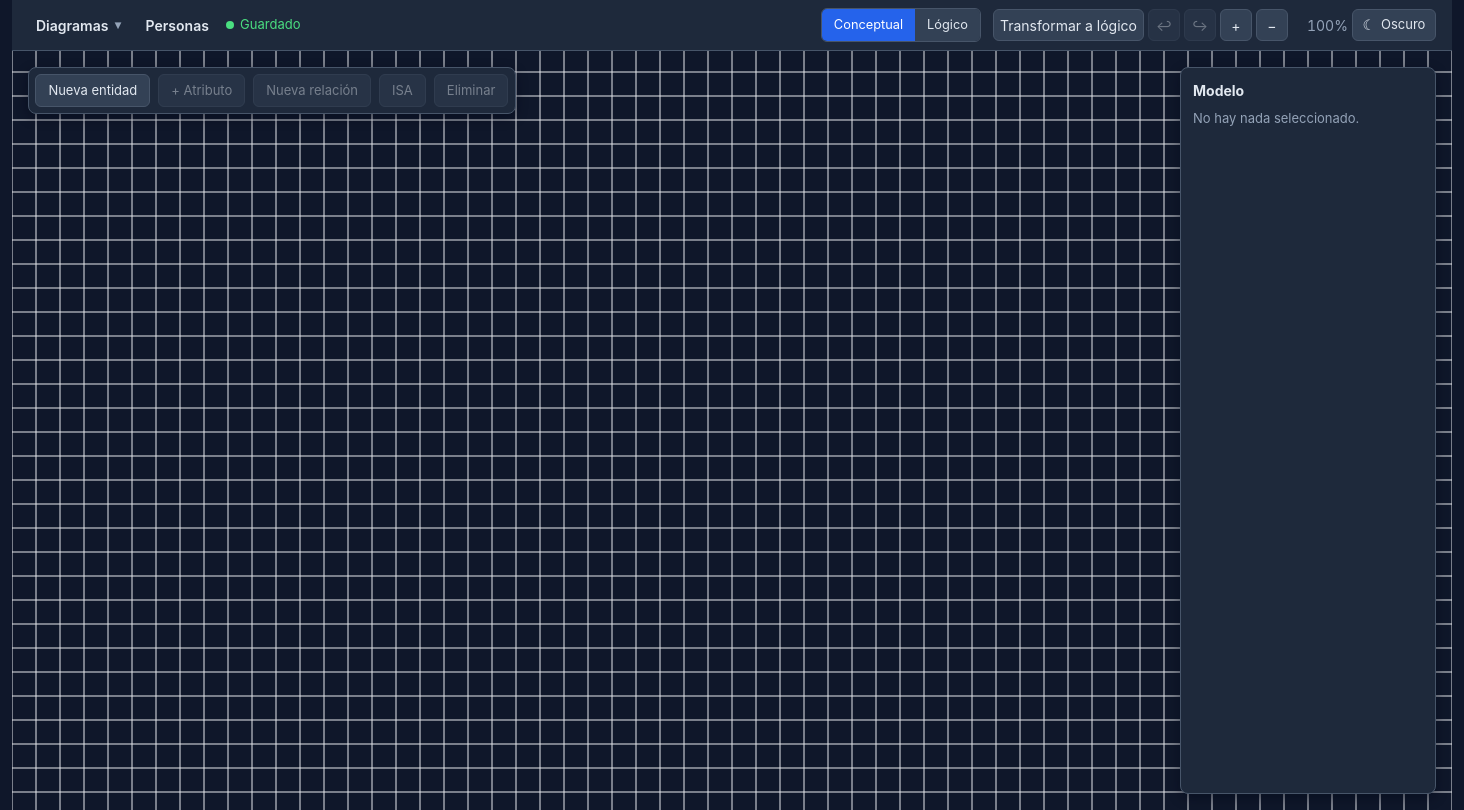
EditorPage › añade atributos a la relación seleccionada (T7-03)
Click the button "Nueva entidad": (93, 91) [35, 74, 150, 107]
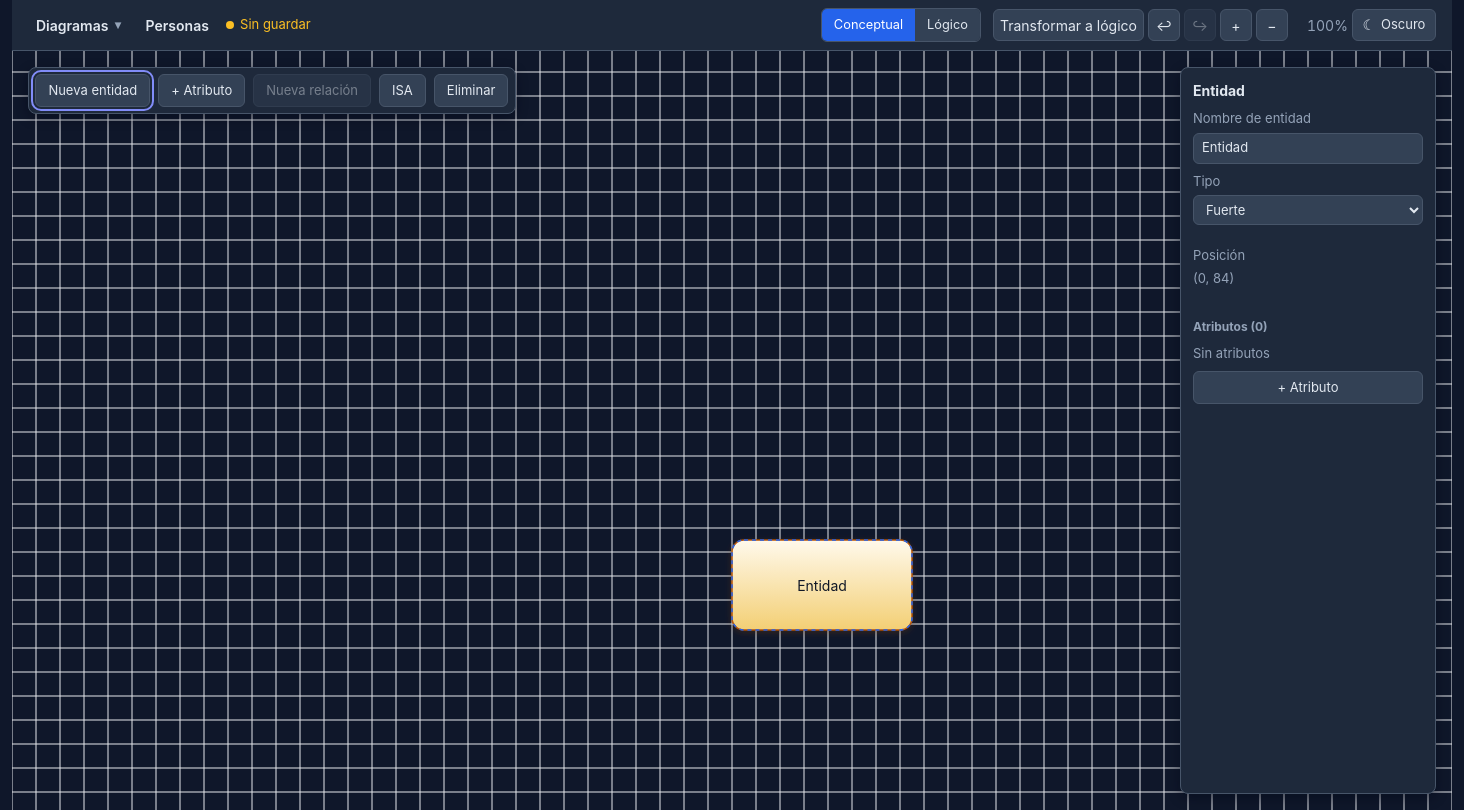
Click the button "Nueva entidad": (93, 91) [35, 74, 150, 107]
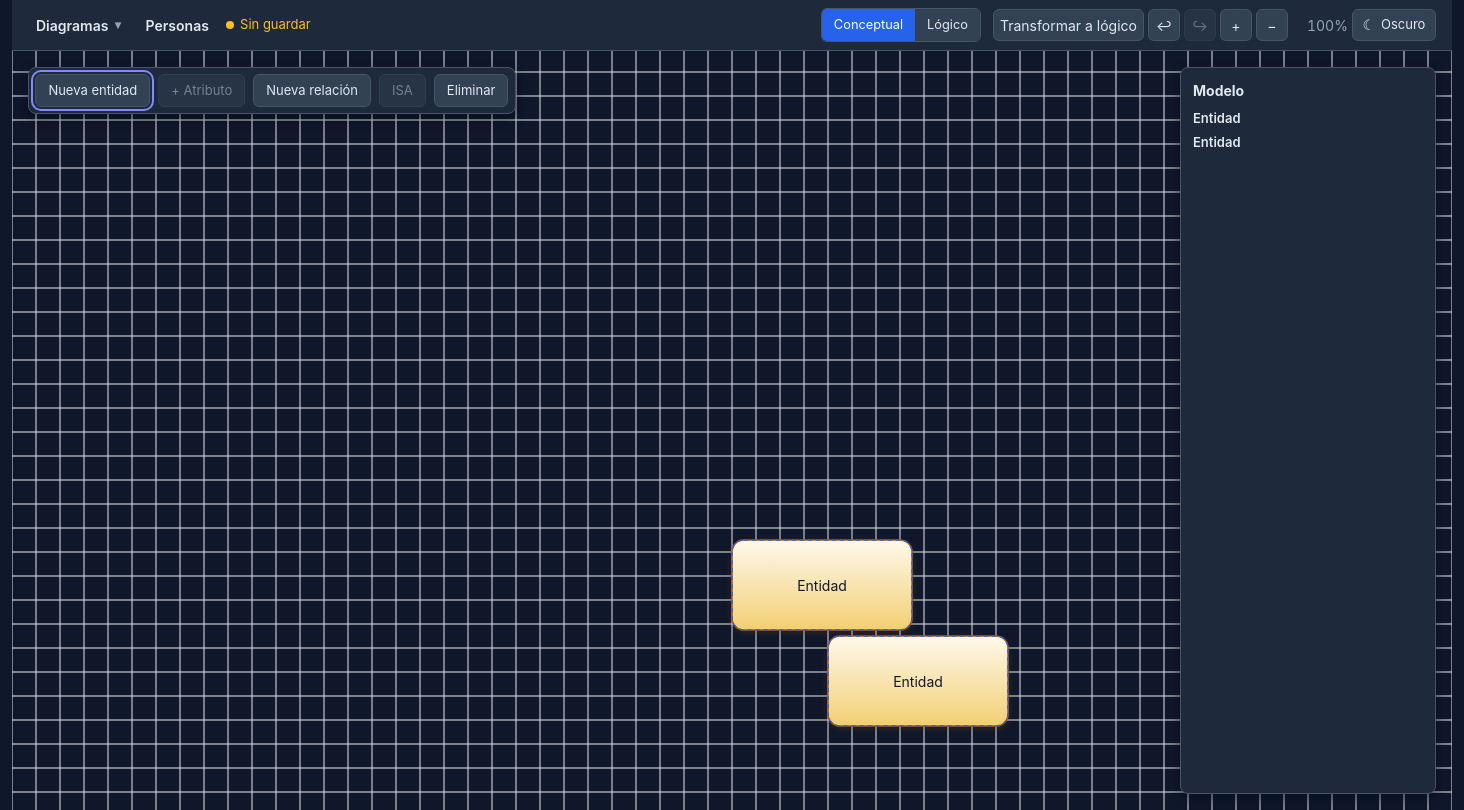
Click the button "Nueva relación": (312, 91) [253, 74, 371, 107]
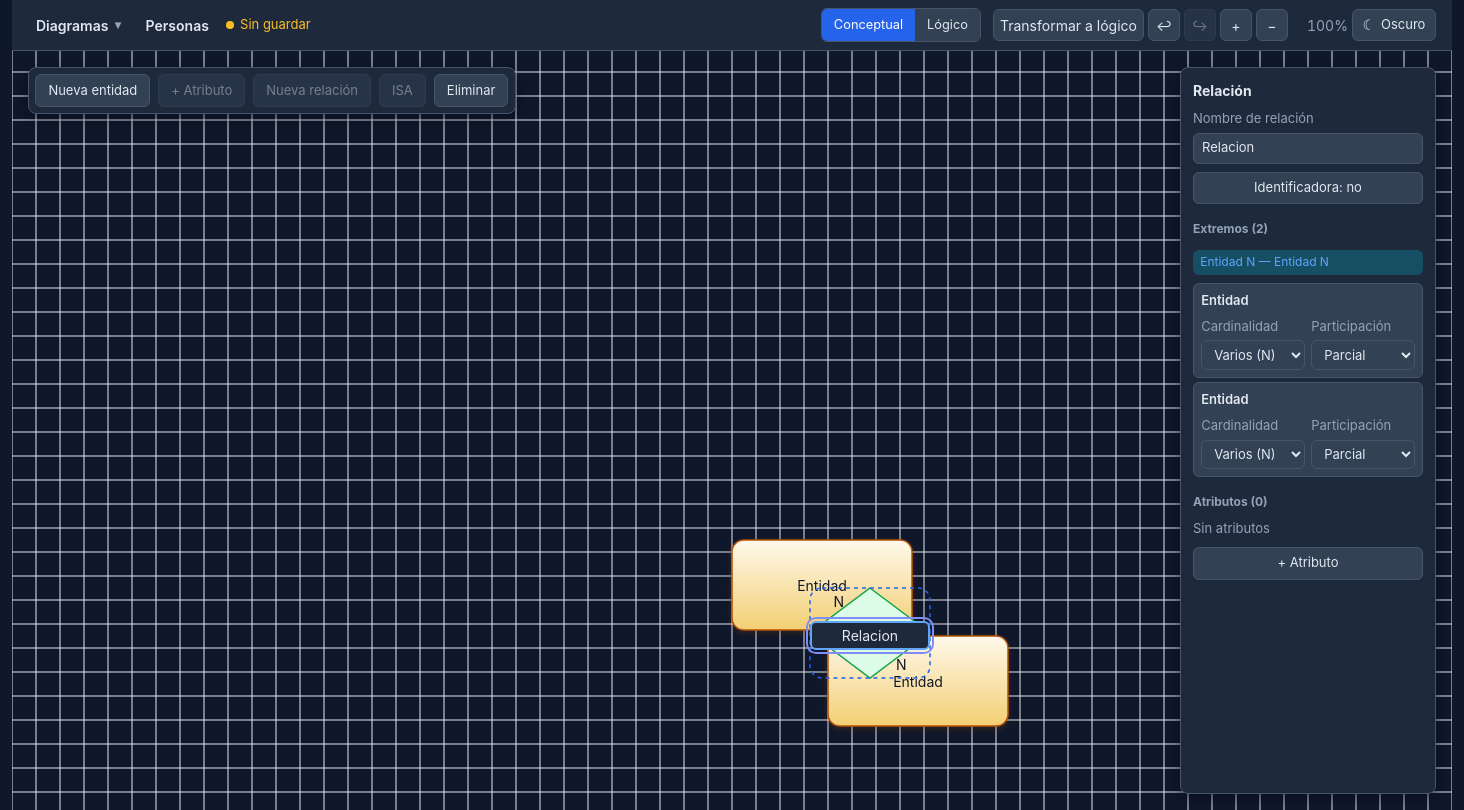
Click the button named "Añadir atributo a relación": (1308, 563) [1193, 547, 1423, 580]
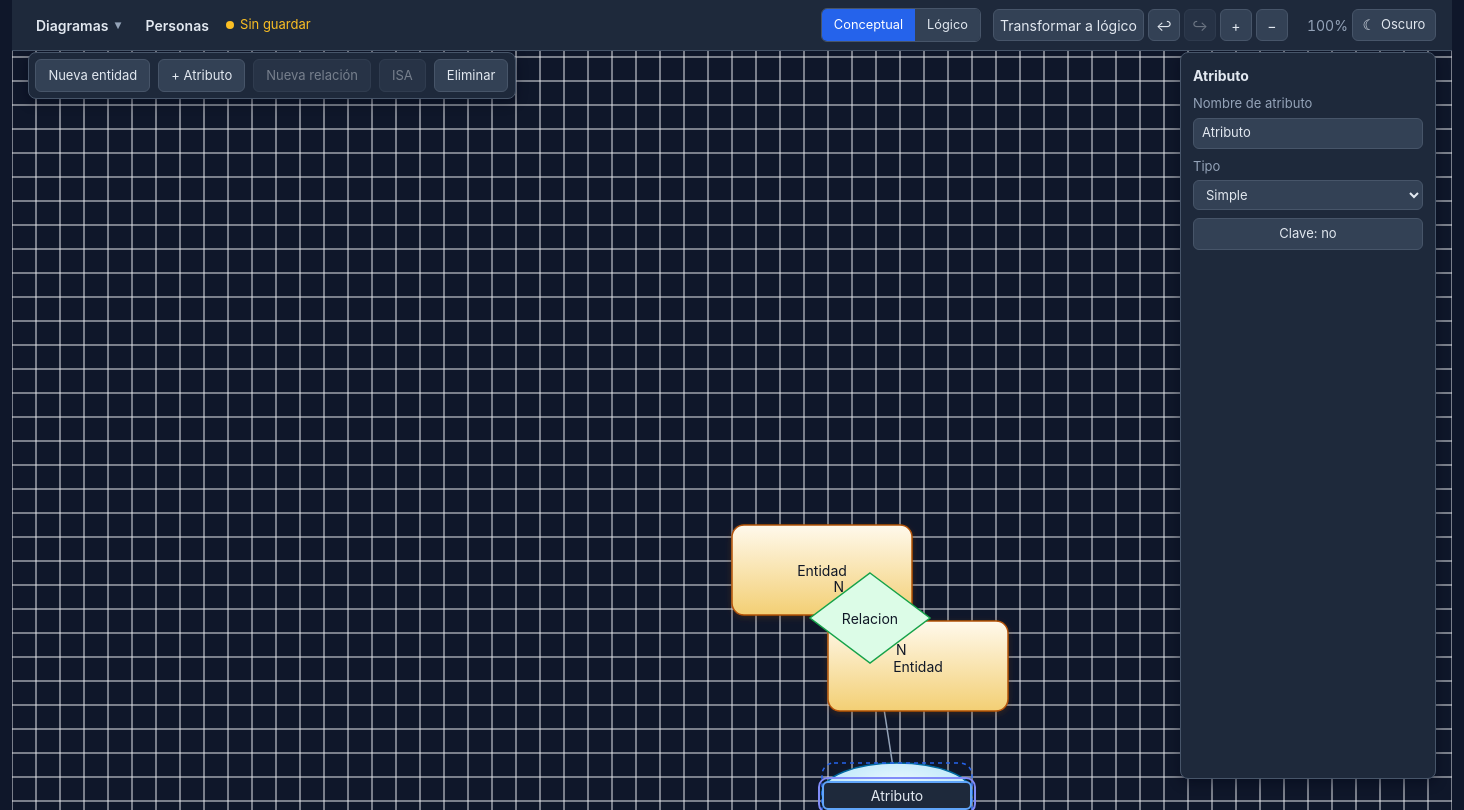
Press Enter
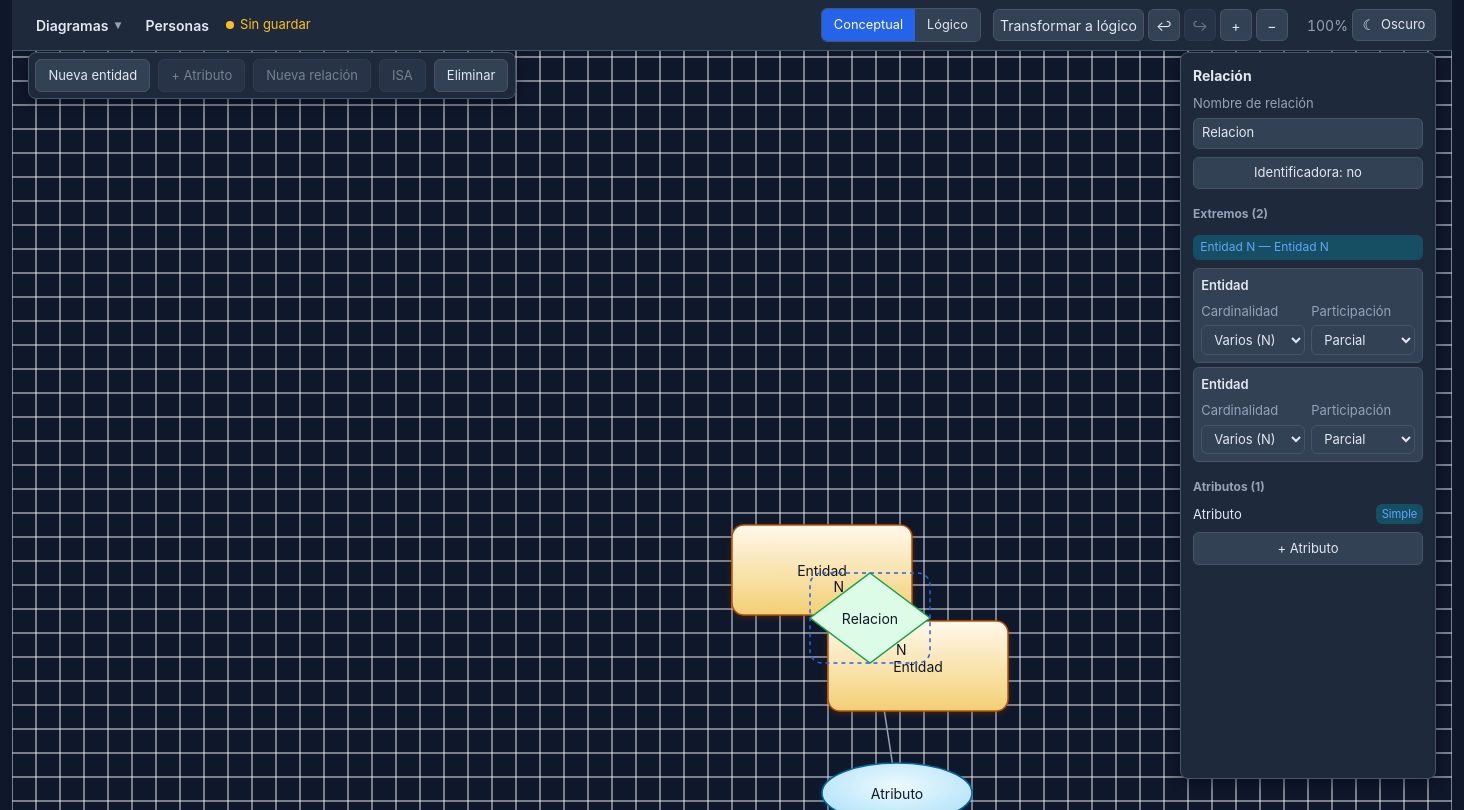
Expected: the element named "Inspector" shows "Atributos (1)", [1180, 52, 1436, 779]
